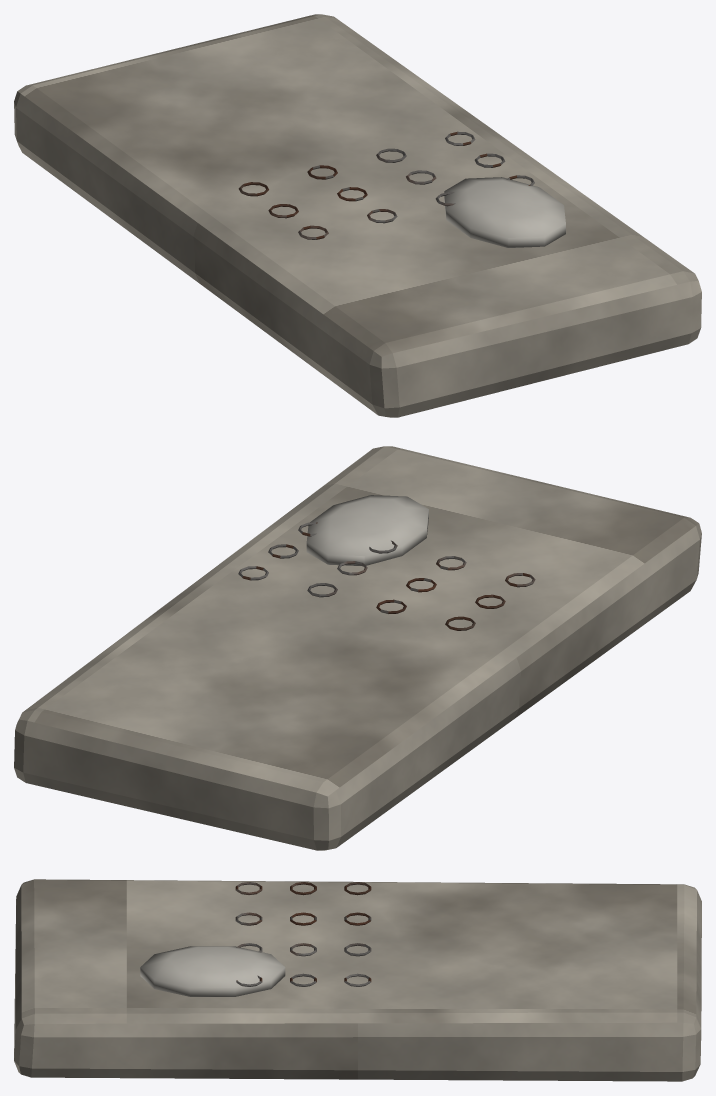
File: BR10_torn_mattress_v2.glb
3 renders of one model, top to bottom at view 1: azimuth 30°, elevation 25°; view 2: azimuth 150°, elevation 25°; view 3: azimuth 270°, elevation 25°, orthographic. The views are drawn at different scales.
Parts seen in each view (by area): view 1: BR10_torn_mattress_v2; view 2: BR10_torn_mattress_v2; view 3: BR10_torn_mattress_v2.
Boxes of the visible parts, x1,y1,x2,y2 form: BR10_torn_mattress_v2: (14,14,701,417); BR10_torn_mattress_v2: (14,446,701,850); BR10_torn_mattress_v2: (14,879,701,1081).
Size of the model in its own units: 0.9611 by 0.2735 by 1.9.
3 materials, 3 textured.
